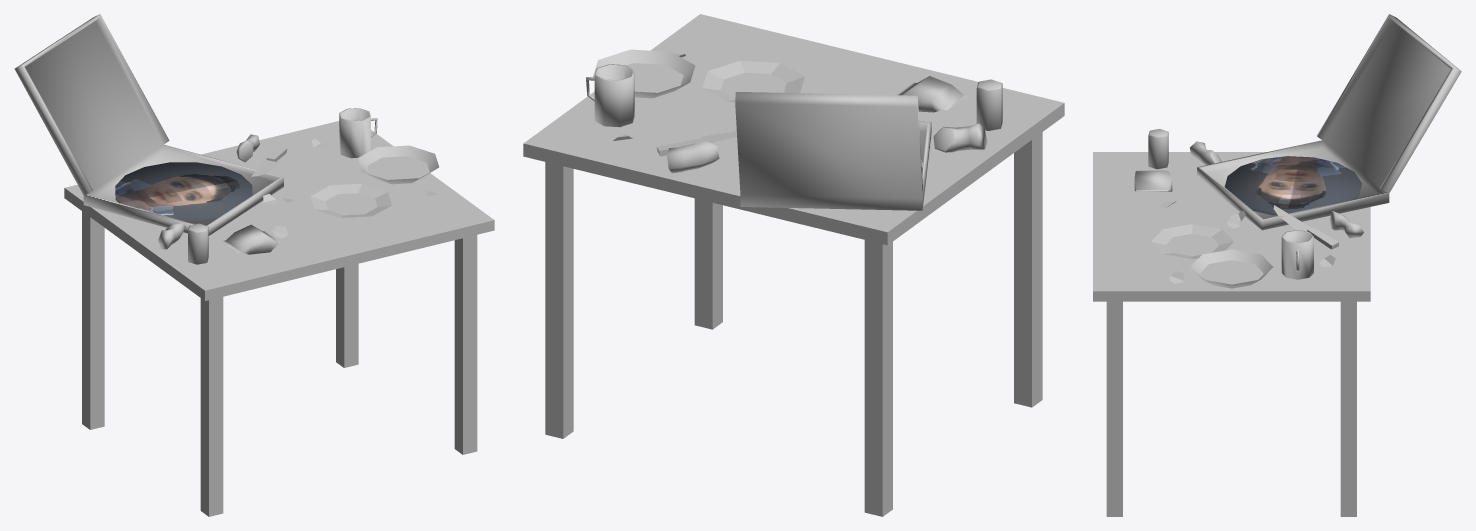
File: Sketchfab_2021_11_03_20_11_44.fbx
The picture shows the model from 3 angles, left to right: view 1: azimuth 30°, elevation 25°; view 2: azimuth 150°, elevation 25°; view 3: azimuth 270°, elevation 25°; orthographic projection. The views are drawn at different scales.
Parts seen in each view (by area): view 1: Plane.001, Plane, Circle, Circle.002, Cylinder, Circle.001, Circle.003, Plane.003, Cylinder.001; view 2: Plane.001, Plane, Circle.002, Cylinder, Circle.001, Plane.003, Cylinder.001, Cylinder.003, Circle.003, Cylinder.002; view 3: Plane.001, Plane, Circle, Circle.002, Cylinder, Circle.001, Circle.003, Plane.003, Cylinder.001, Plane.002, Cylinder.002, Cylinder.003.
Part boxes in pixels (left/top/right/bottom): Plane.001: left=64, top=121, right=494, bottom=516; Plane: left=14, top=14, right=283, bottom=235; Circle: left=115, top=162, right=252, bottom=222; Circle.002: left=310, top=183, right=391, bottom=217; Cylinder: left=339, top=108, right=377, bottom=158; Circle.001: left=358, top=145, right=438, bottom=184; Circle.003: left=367, top=156, right=429, bottom=179; Plane.003: left=221, top=224, right=281, bottom=254; Cylinder.001: left=188, top=223, right=208, bottom=264; Plane.001: left=523, top=14, right=1064, bottom=516; Plane: left=735, top=92, right=931, bottom=210; Circle.002: left=702, top=60, right=804, bottom=102; Cylinder: left=586, top=64, right=634, bottom=127; Circle.001: left=593, top=49, right=695, bottom=98; Plane.003: left=896, top=76, right=968, bottom=112; Cylinder.001: left=976, top=79, right=1002, bottom=130; Cylinder.003: left=933, top=123, right=987, bottom=152; Circle.003: left=626, top=63, right=683, bottom=92; Cylinder.002: left=667, top=140, right=719, bottom=173; Plane.001: left=1093, top=152, right=1370, bottom=516; Plane: left=1197, top=14, right=1461, bottom=230; Circle: left=1224, top=156, right=1361, bottom=215; Circle.002: left=1151, top=224, right=1233, bottom=259; Cylinder: left=1281, top=230, right=1313, bottom=279; Circle.001: left=1190, top=249, right=1272, bottom=288; Circle.003: left=1200, top=260, right=1263, bottom=284; Plane.003: left=1134, top=170, right=1172, bottom=191; Cylinder.001: left=1148, top=129, right=1168, bottom=169; Plane.002: left=1273, top=205, right=1338, bottom=249; Cylinder.002: left=1330, top=211, right=1363, bottom=238; Cylinder.003: left=1190, top=141, right=1221, bottom=165.
Bounding box in the file's own units: 538 × 545 × 516.
